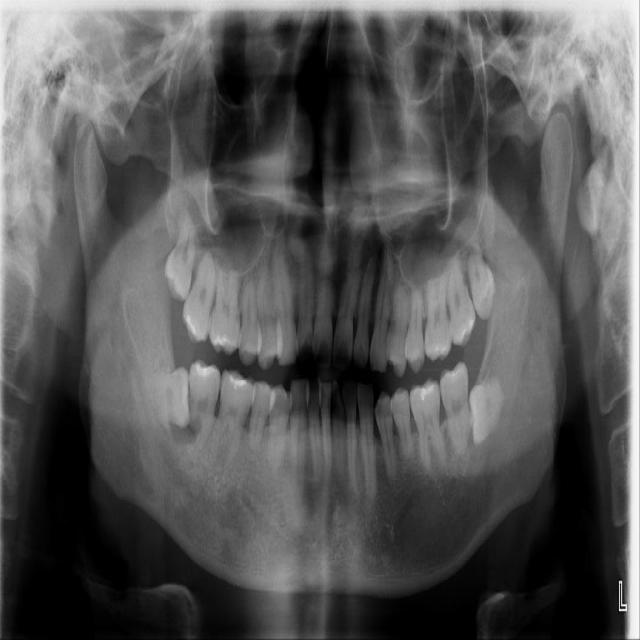Filling: (458, 318, 473, 342), (415, 384, 433, 400), (229, 376, 247, 389), (197, 365, 215, 376), (187, 316, 195, 335), (213, 336, 223, 346)
impacted tooth: (131, 366, 188, 427), (470, 367, 507, 445)
